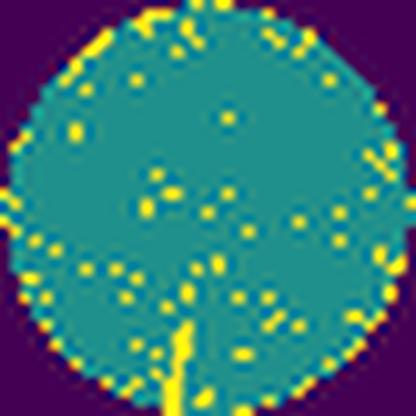Edge-Loc: (159, 316, 199, 416)
